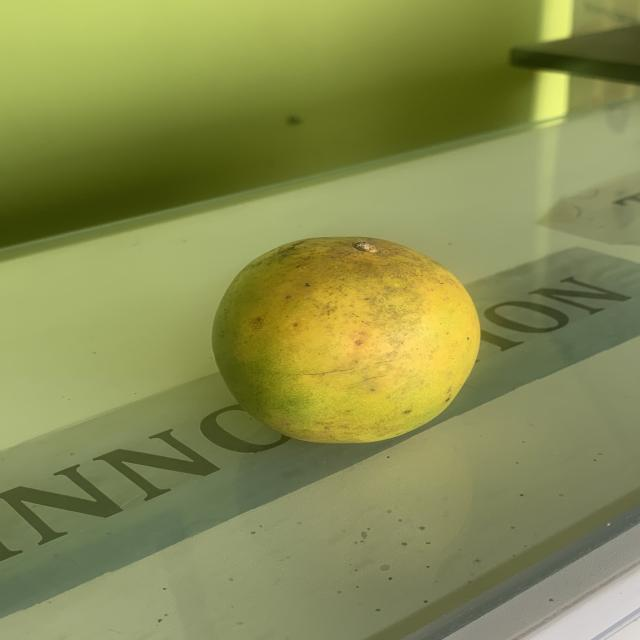Ripe orange: (209, 229, 489, 449)
